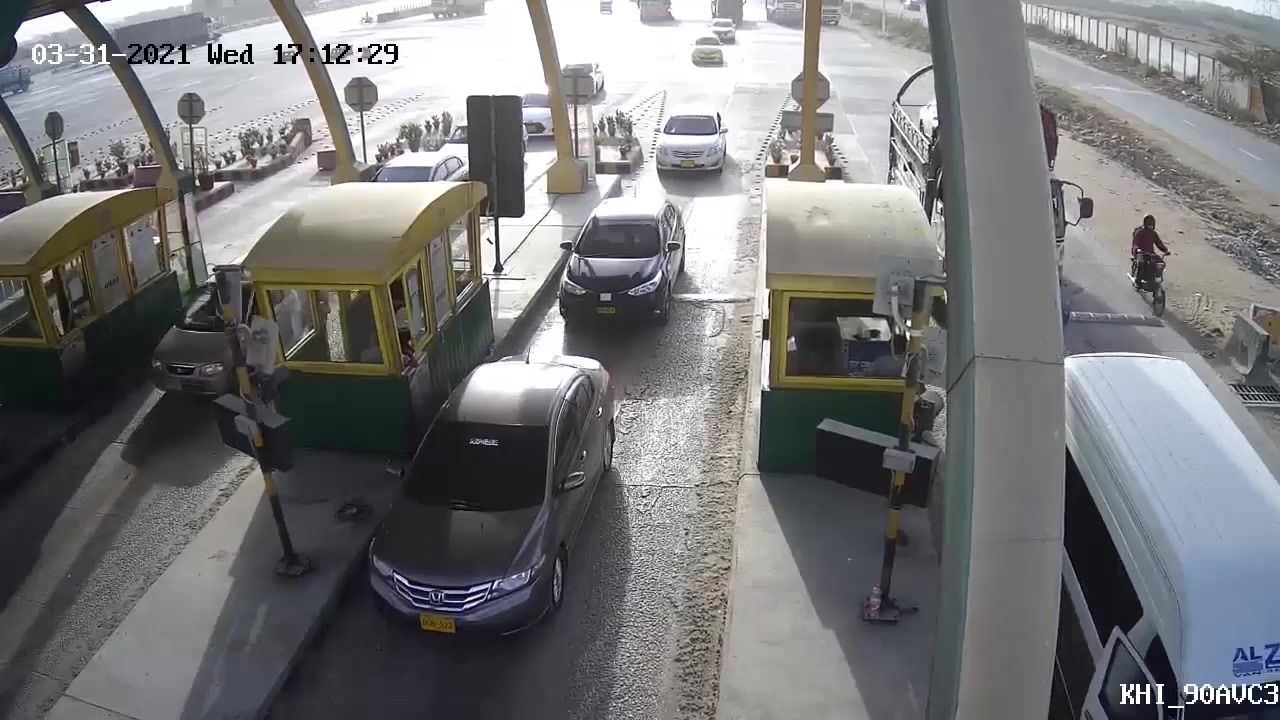F1: (356, 340, 626, 643), (537, 191, 696, 336)
